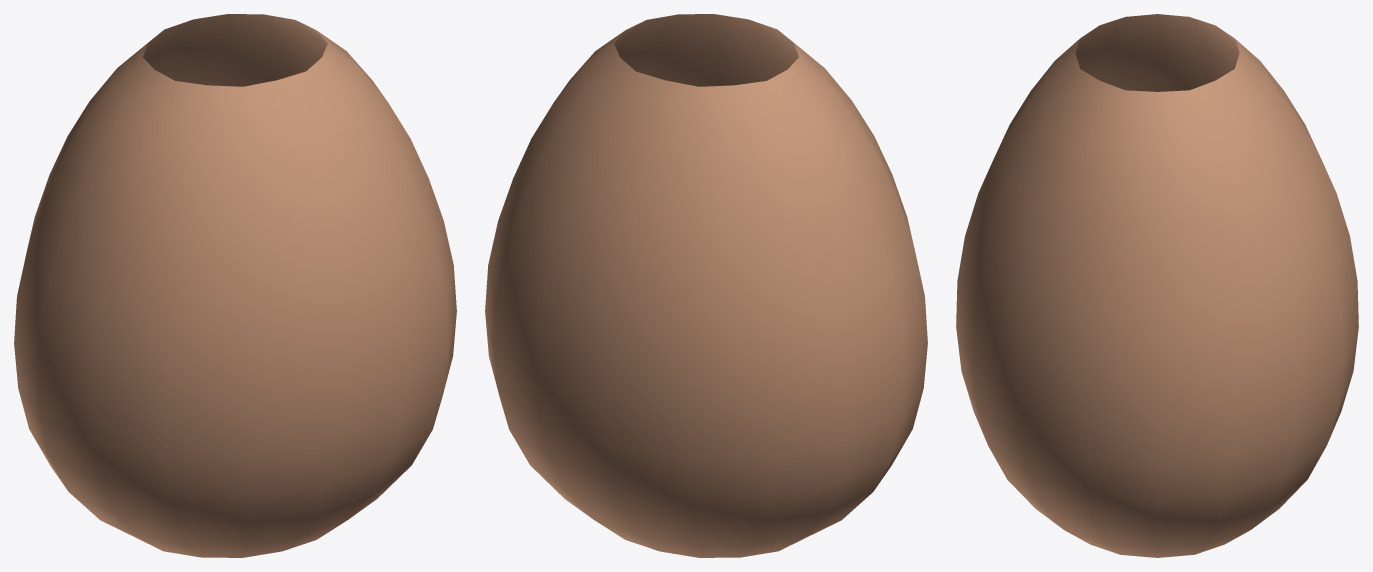
File: egg2.fbx
The picture shows the model from 3 angles, left to right: view 1: azimuth 30°, elevation 25°; view 2: azimuth 150°, elevation 25°; view 3: azimuth 270°, elevation 25°; orthographic projection.
Parts seen in each view (by area): view 1: pSphere1; view 2: pSphere1; view 3: pSphere1.
Boxes of the visible parts, x1,y1,x2,y2 form: pSphere1: [14, 14, 456, 557]; pSphere1: [485, 14, 927, 557]; pSphere1: [956, 14, 1358, 557].
Size of the model in its own units: 6.49 by 7.69 by 5.8.
